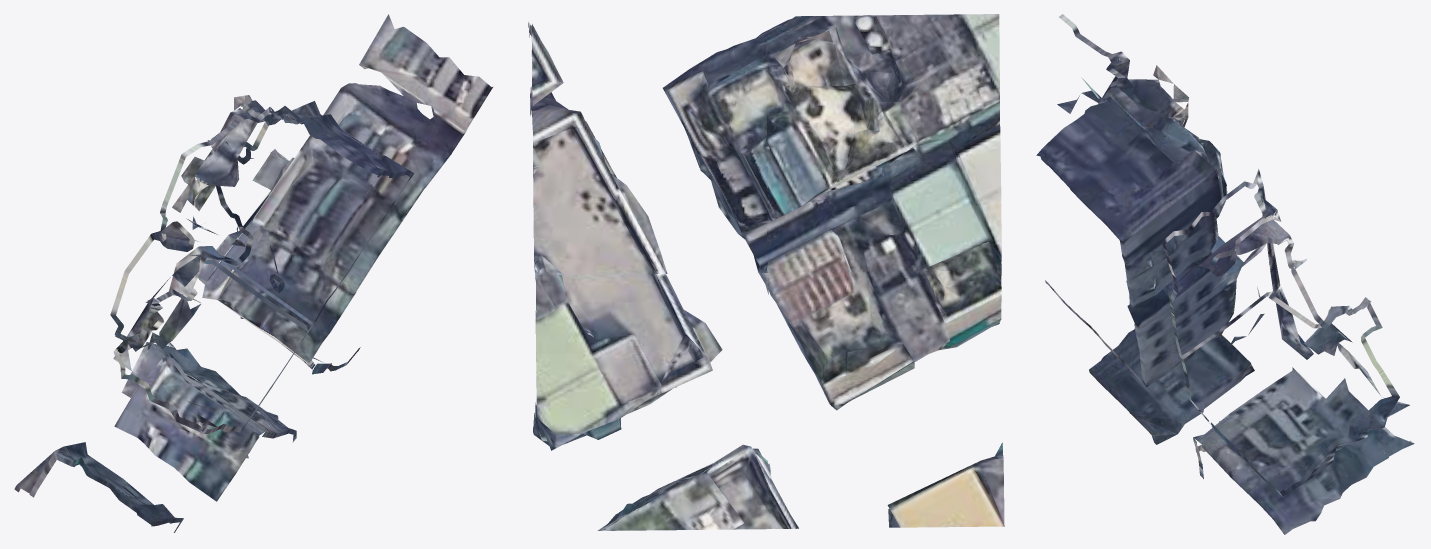
3 renders of one model, left to right at view 1: azimuth 30°, elevation 25°; view 2: azimuth 150°, elevation 25°; view 3: azimuth 270°, elevation 25°, orthographic. The views are drawn at different scales.
Size of the model in its own units: 44.15 by 39.98 by 33.27.
Materials: 2 (2 with a texture image).
